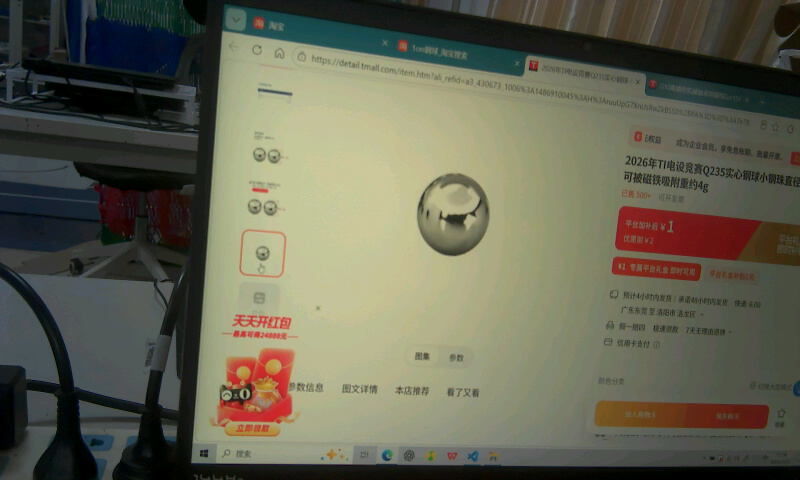ball: (417, 173, 492, 256), (266, 145, 280, 164), (248, 198, 262, 215), (251, 146, 265, 160), (265, 202, 280, 215), (255, 246, 270, 259)
